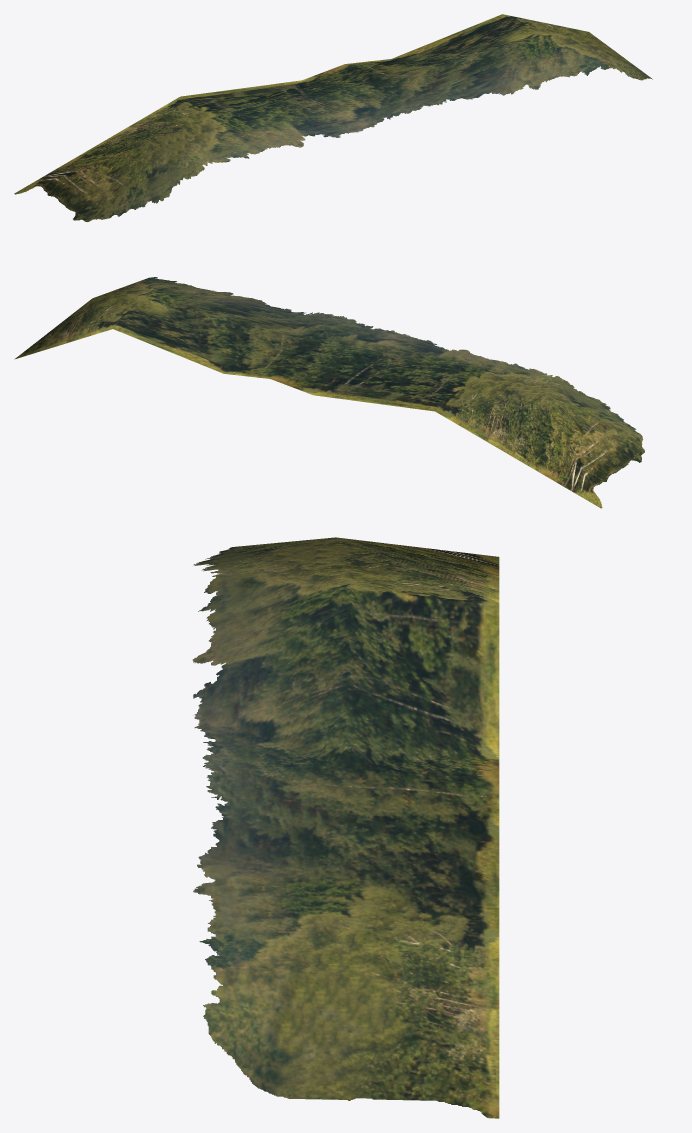
The model's file is mixedforest.obj.
The picture shows the model from 3 angles, top to bottom: view 1: azimuth 30°, elevation 25°; view 2: azimuth 150°, elevation 25°; view 3: azimuth 270°, elevation 25°; orthographic projection. The views are drawn at different scales.
Parts seen in each view (by area): view 1: 1_-_Default; view 2: 1_-_Default; view 3: 1_-_Default.
Part boxes in pixels (<box>): 1_-_Default: <box>14,14,652,221</box>; 1_-_Default: <box>14,277,644,508</box>; 1_-_Default: <box>192,537,499,1118</box>.
Size of the model in its own units: 102 by 11.06 by 22.97.
Materials: 1 (1 with a texture image).
